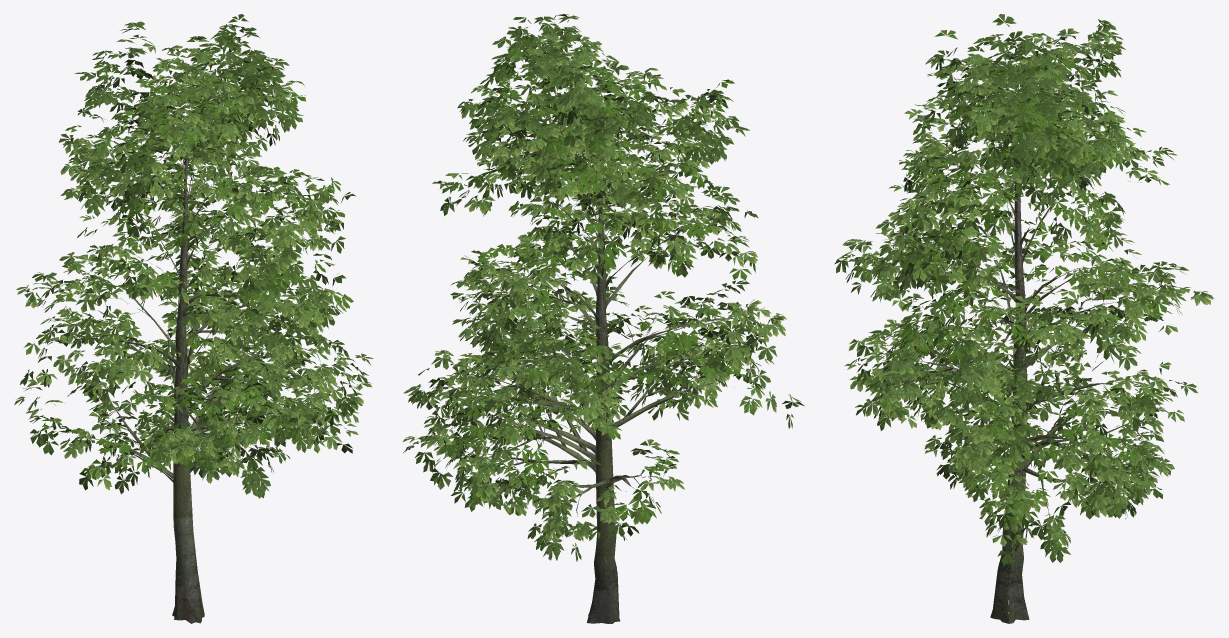
File: tree-size-2-3.glb
3 views of the same model, side by side, from view 1: azimuth 30°, elevation 25°; view 2: azimuth 150°, elevation 25°; view 3: azimuth 270°, elevation 25° (orthographic). The views are drawn at different scales.
Parts seen in each view (by area): view 1: default_MeshPart0; view 2: default_MeshPart0; view 3: default_MeshPart0.
Part boxes in pixels (<box>): default_MeshPart0: <box>14,14,373,623</box>; default_MeshPart0: <box>403,14,804,623</box>; default_MeshPart0: <box>834,14,1214,623</box>.
Size of the model in its own units: 4.65 by 7.73 by 4.42.
1 material, 1 textured.
